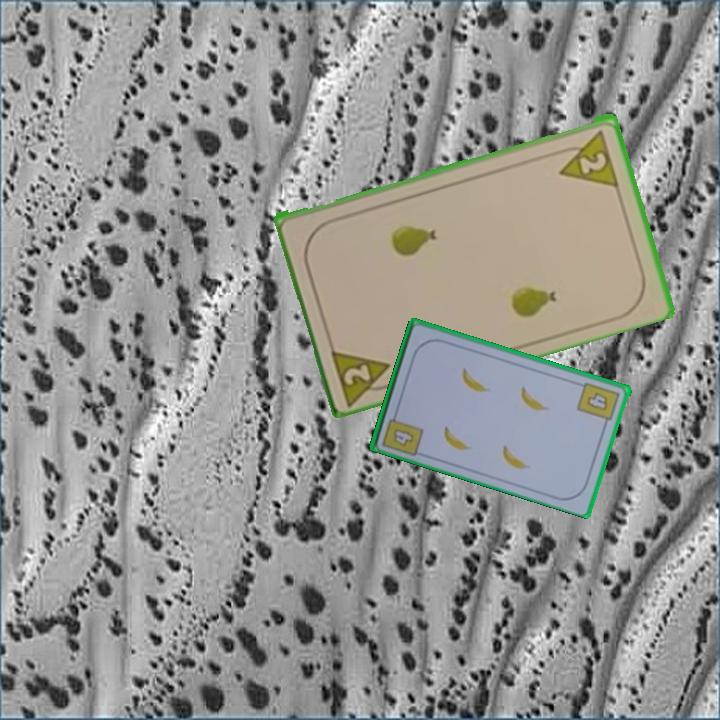2p: (327, 342, 400, 406), (576, 147, 610, 176)
4b: (574, 379, 623, 429), (390, 425, 417, 449)
